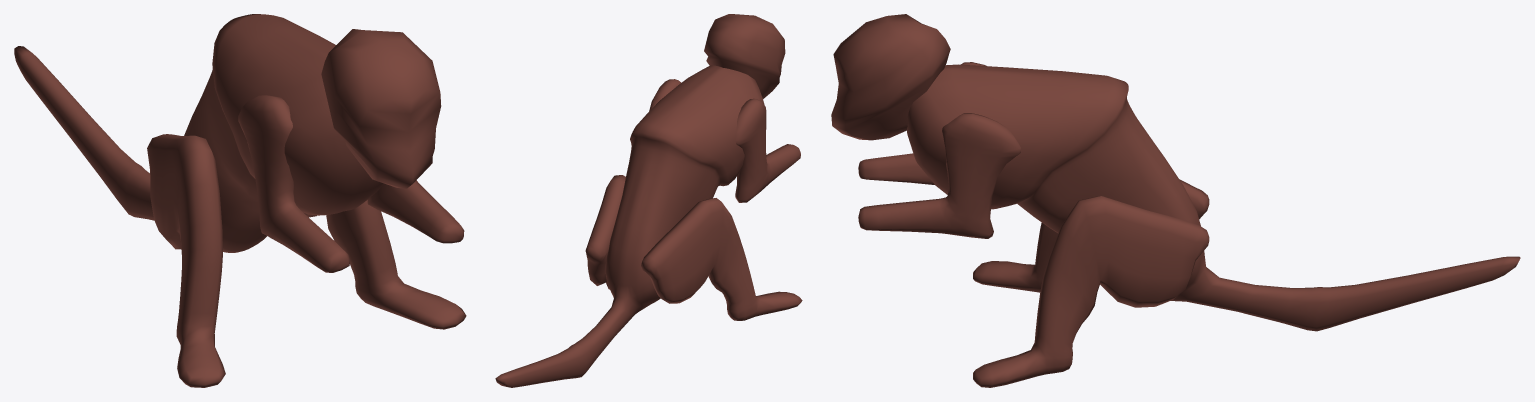
Rendered from placeholder_EnemyMonkey.fbx.
3 renders of one model, left to right at view 1: azimuth 30°, elevation 25°; view 2: azimuth 150°, elevation 25°; view 3: azimuth 270°, elevation 25°, orthographic. The views are drawn at different scales.
Parts seen in each view (by area): view 1: leg.002; view 2: leg.002; view 3: leg.002.
Boxes of the visible parts, <box> form: leg.002: <box>14,14,466,387</box>; leg.002: <box>495,14,802,387</box>; leg.002: <box>831,14,1520,387</box>.
Bounding box in the file's own units: 126 × 304 × 151.
